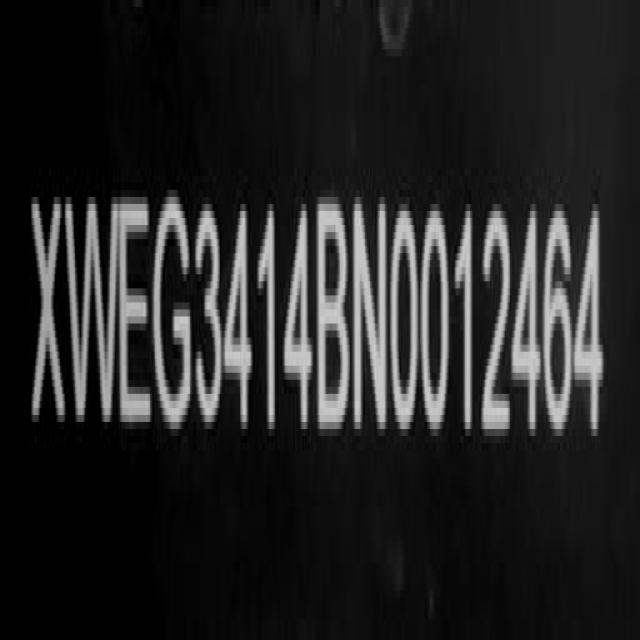0: (421, 205, 451, 442), (394, 198, 422, 440)
1: (456, 200, 478, 445), (258, 198, 278, 443)
2: (481, 209, 512, 447)
3: (195, 197, 226, 437)
4: (284, 194, 316, 442), (512, 201, 544, 447), (574, 211, 604, 444), (224, 201, 252, 444)
6: (546, 204, 576, 444)
B: (316, 192, 350, 444)
E: (118, 184, 154, 440)
G: (153, 188, 194, 436)
N: (353, 191, 390, 444)
W: (70, 183, 120, 439)
X: (30, 189, 67, 442)
